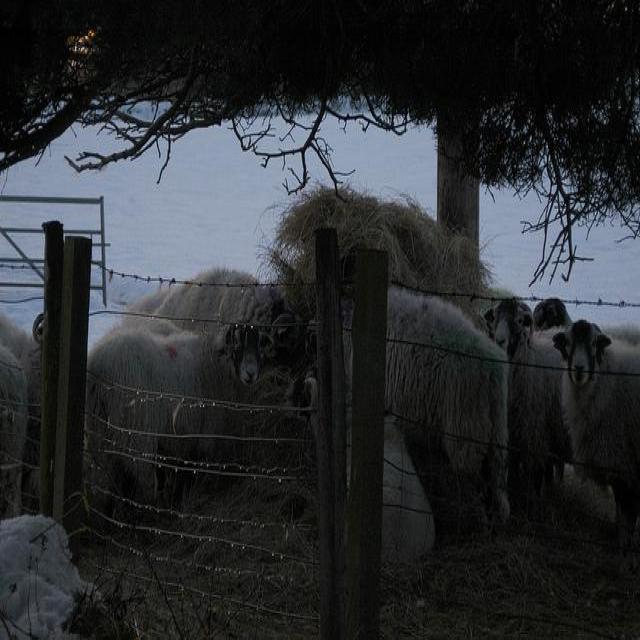Sheep: (87, 323, 276, 506), (283, 362, 432, 566), (388, 282, 508, 526), (477, 305, 576, 539), (552, 317, 639, 557), (104, 270, 298, 340), (0, 314, 41, 428)
